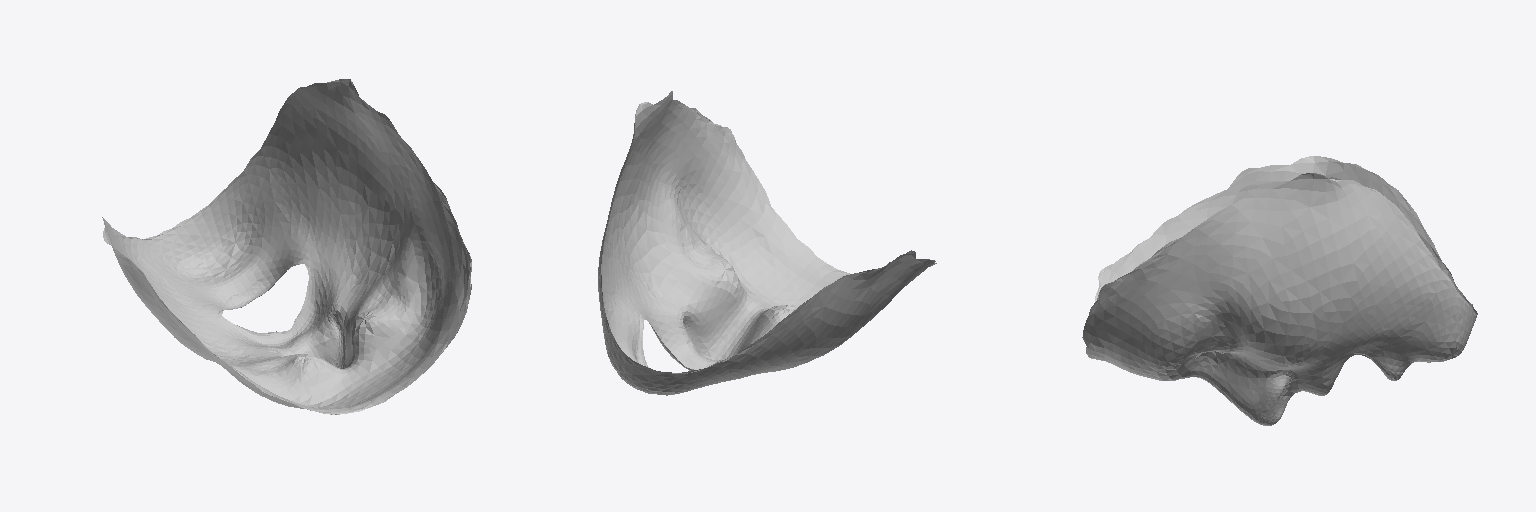
The model's file is face_gab_sfm74.obj.
3 views of the same model, side by side, from view 1: azimuth 30°, elevation 25°; view 2: azimuth 150°, elevation 25°; view 3: azimuth 270°, elevation 25° (orthographic).
Bounding box in the file's own units: 166 × 163 × 212.